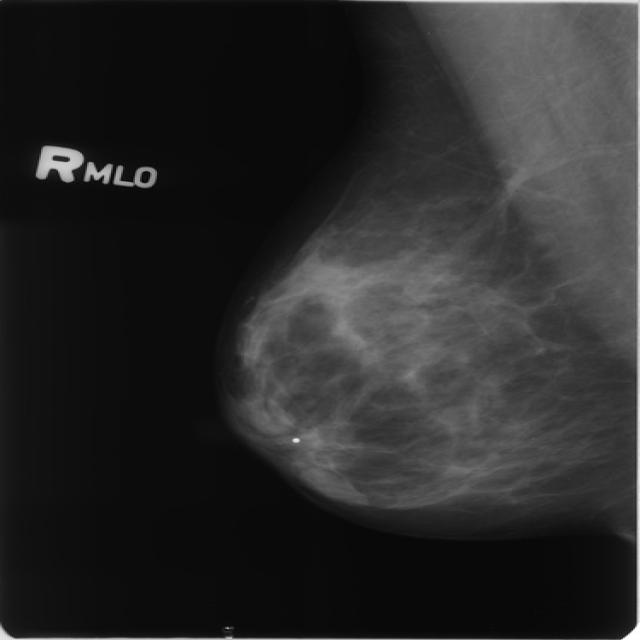tumour: (295, 464, 364, 502)
